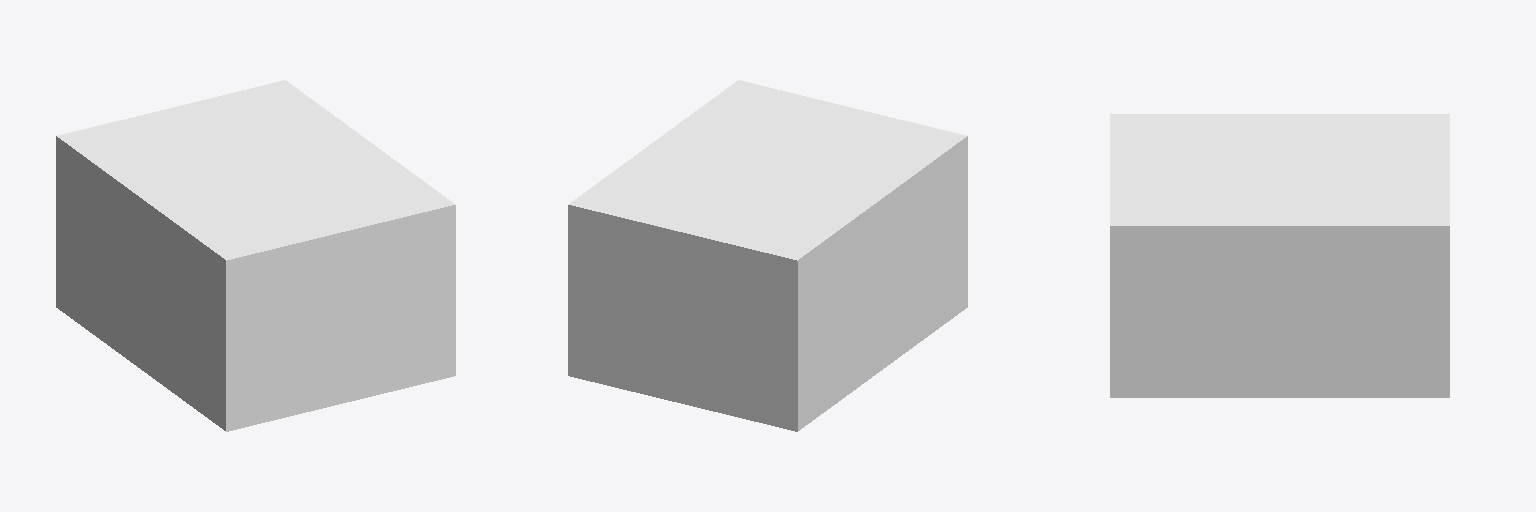
The model's file is glue_box1.obj.
3 renders of one model, left to right at view 1: azimuth 30°, elevation 25°; view 2: azimuth 150°, elevation 25°; view 3: azimuth 270°, elevation 25°, orthographic.
Visible parts, largest first — view 1: object 1; view 2: object 1; view 3: object 1.
Boxes of the visible parts, x1,y1,x2,y2 form: object 1: [56, 80, 455, 431]; object 1: [568, 80, 967, 431]; object 1: [1110, 114, 1449, 397].
Bounding box in the file's own units: 0.7 × 0.5 × 0.9.